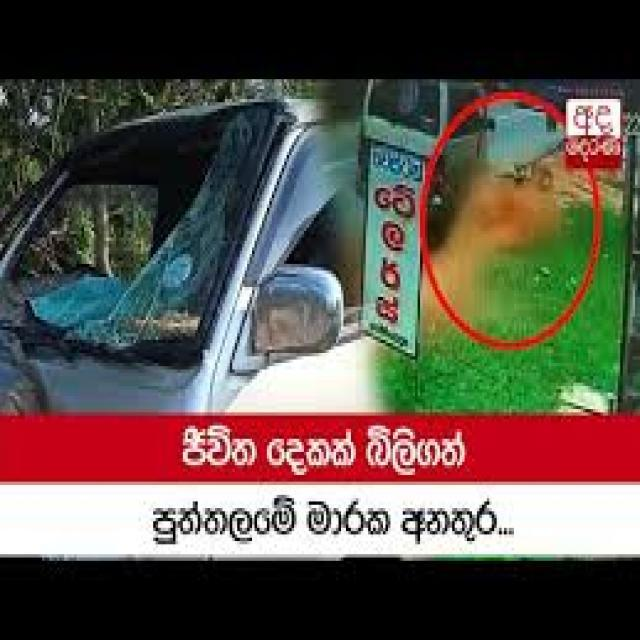damaged-windscreen: (5, 111, 274, 360)
